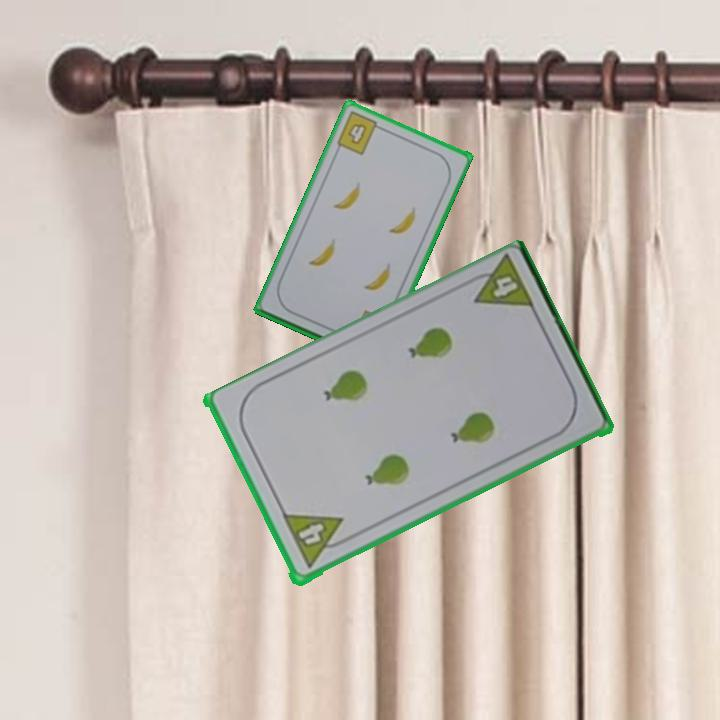4b: (333, 108, 386, 158)
4p: (461, 253, 538, 315), (279, 510, 353, 572)
